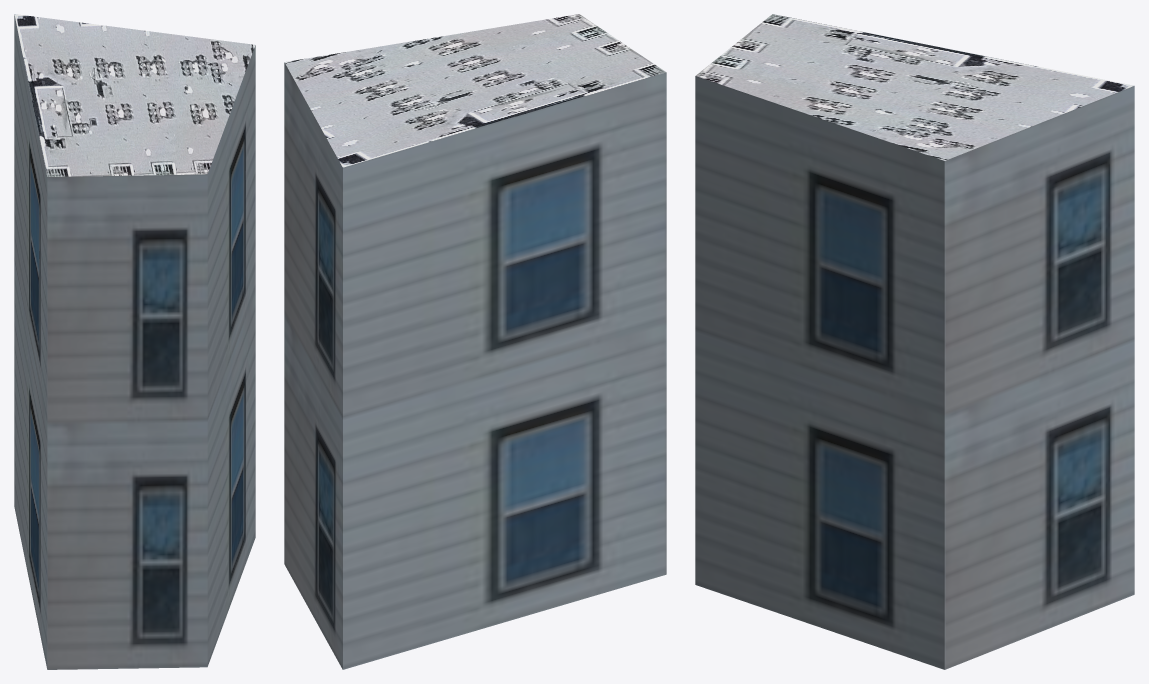
File: ResTex__4079.fbx
The picture shows the model from 3 angles, left to right: view 1: azimuth 30°, elevation 25°; view 2: azimuth 150°, elevation 25°; view 3: azimuth 270°, elevation 25°; orthographic projection. The views are drawn at different scales.
Visible parts, largest first — view 1: CityEngineMaterial_18_m, CityEngineMaterial_4_m; view 2: CityEngineMaterial_18_m, CityEngineMaterial_4_m; view 3: CityEngineMaterial_18_m, CityEngineMaterial_4_m.
Boxes of the visible parts, left/top/right/bottom form: CityEngineMaterial_18_m: left=14, top=15, right=255, bottom=669; CityEngineMaterial_4_m: left=14, top=14, right=255, bottom=176; CityEngineMaterial_18_m: left=284, top=62, right=666, bottom=669; CityEngineMaterial_4_m: left=284, top=14, right=666, bottom=167; CityEngineMaterial_18_m: left=695, top=76, right=1134, bottom=669; CityEngineMaterial_4_m: left=695, top=14, right=1133, bottom=160.
Bounding box in the file's own units: 3.72 × 6 × 4.69.
2 materials, 2 textured.
